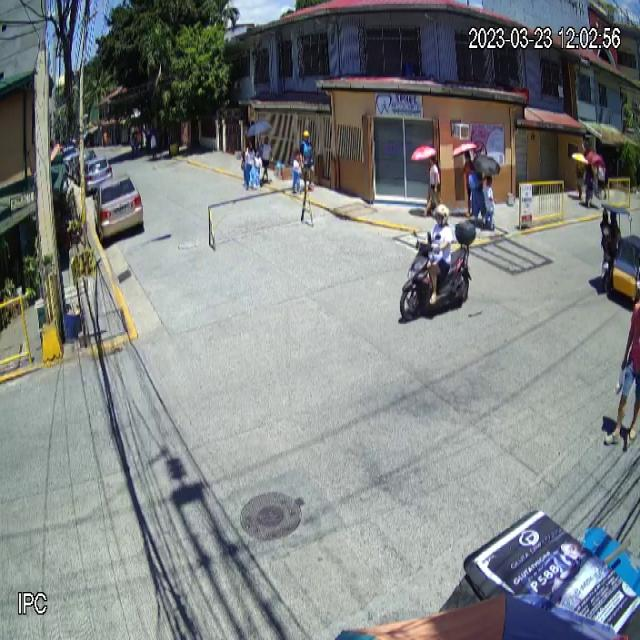Car: (93, 172, 143, 242)
Motorcycle: (399, 216, 477, 324)
